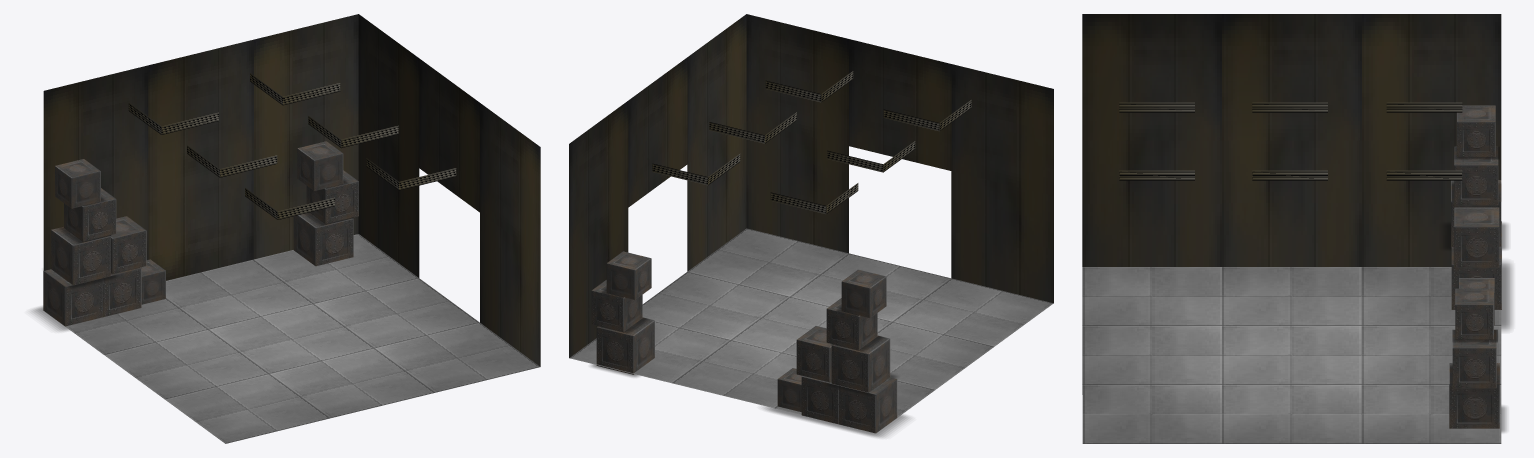
Rendered from room_9.glb.
3 renders of one model, left to right at view 1: azimuth 30°, elevation 25°; view 2: azimuth 150°, elevation 25°; view 3: azimuth 270°, elevation 25°, orthographic. The views are drawn at different scales.
Parts seen in each view (by area): view 1: wall, floor, C1MetalBox3 (×6), EMetalBox3, EMetalBox6, EMetalBox5, Lights9, Lights11, Lights6, Lights8, Lights10, Lights7; view 2: wall, floor, C1MetalBox3 (×6), EMetalBox3, EMetalBox6, EMetalBox5, Lights6, Lights7, Lights10, Lights9, Lights8, EMetalBoxShadow (+1 smaller); view 3: wall, floor, C1MetalBox3 (×6), EMetalBox6, EMetalBox3, Lights6, Lights9, Lights10, Lights11, Lights7, Lights8, EMetalBoxShadow (+1 smaller).
Boxes of the visible parts, <box> form: wall: <box>43,14,540,366</box>; floor: <box>51,234,539,443</box>; C1MetalBox3 (×6): <box>51,141,358,285</box>; EMetalBox3: <box>43,267,141,326</box>; EMetalBox6: <box>110,216,146,273</box>; EMetalBox5: <box>141,259,165,304</box>; Lights9: <box>250,73,340,105</box>; Lights11: <box>308,116,398,148</box>; Lights6: <box>128,103,218,134</box>; Lights8: <box>366,158,456,190</box>; Lights10: <box>187,145,277,177</box>; Lights7: <box>245,188,334,219</box>; wall: <box>569,14,1053,357</box>; floor: <box>569,228,1053,429</box>; C1MetalBox3 (×6): <box>591,251,890,392</box>; EMetalBox3: <box>801,376,897,433</box>; EMetalBox6: <box>796,326,832,382</box>; EMetalBox5: <box>777,368,801,411</box>; Lights6: <box>770,183,858,214</box>; Lights7: <box>883,100,971,131</box>; Lights10: <box>827,141,915,172</box>; Lights9: <box>652,154,740,185</box>; Lights8: <box>765,71,853,102</box>; EMetalBoxShadow: <box>763,406,909,437</box>; wall: <box>1082,14,1501,266</box>; floor: <box>1082,267,1501,443</box>; C1MetalBox3 (×6): <box>1449,105,1501,428</box>; EMetalBox6: <box>1454,207,1499,267</box>; EMetalBox3: <box>1451,221,1501,309</box>; Lights6: <box>1386,102,1462,112</box>; Lights9: <box>1386,170,1462,180</box>; Lights10: <box>1252,102,1327,112</box>; Lights11: <box>1252,170,1327,180</box>; Lights7: <box>1119,102,1194,112</box>; Lights8: <box>1119,170,1194,180</box>; EMetalBoxShadow: <box>1501,261,1512,331</box>.
Size of the model in its own units: 48.05 by 30.21 by 46.96.
Materials: 7 (7 with a texture image).
